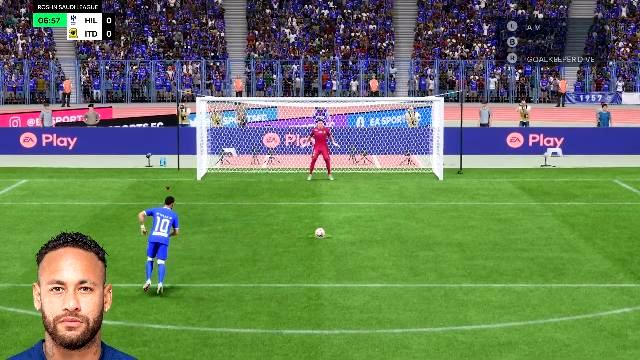bottom-left: (202, 141, 280, 181)
bottom-right: (358, 141, 438, 181)
center-down: (282, 140, 356, 180)
center-up: (281, 103, 355, 139)
circle: (309, 234, 333, 236)
football: (314, 228, 324, 236)
goalkeeper: (302, 122, 342, 182)
player: (140, 196, 188, 294)
top-left: (202, 103, 278, 139)
top-right: (356, 103, 439, 139)
